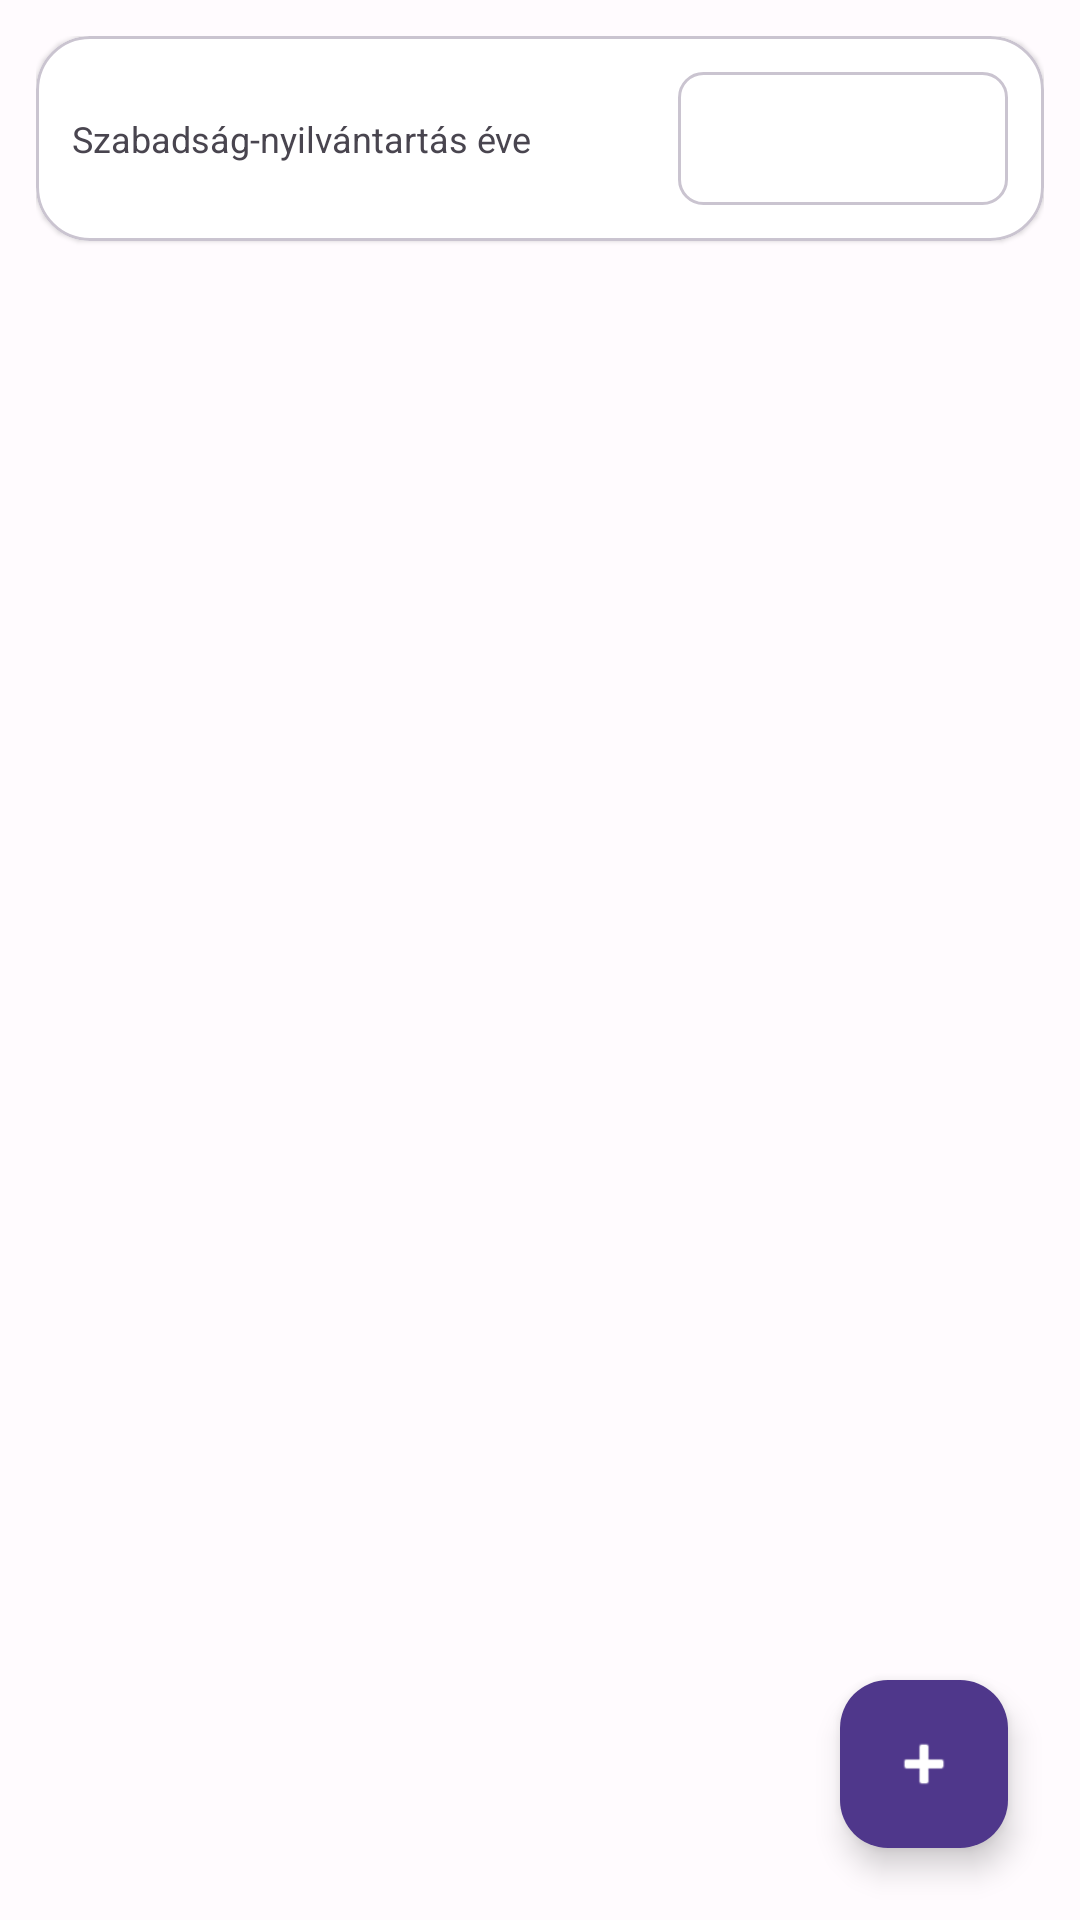

Icons on this 1080px x 1920px Android screen, each with the point to tap as [x,y]:
Új dolgozó: [924,1764]
